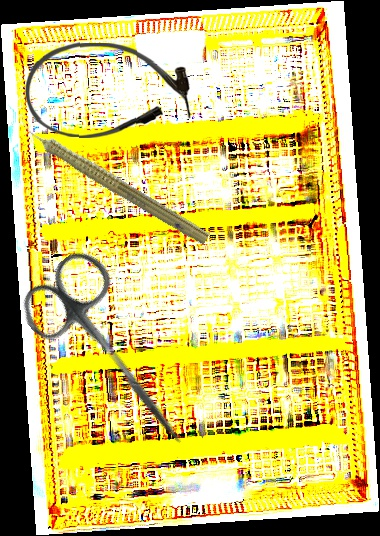Cannula: (23, 41, 193, 140)
Handpiece: (9, 110, 215, 249)
Iris Scissors: (10, 242, 221, 470)
